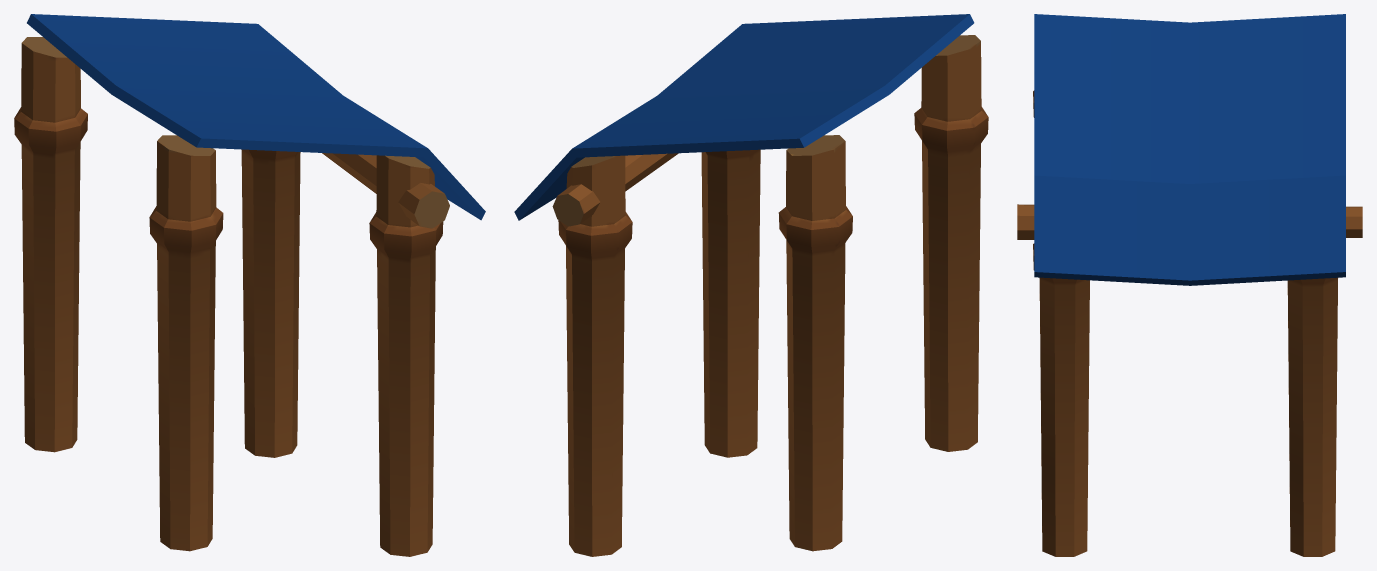
File: Barrack2_decoration.fbx
The picture shows the model from 3 angles, left to right: view 1: azimuth 30°, elevation 25°; view 2: azimuth 150°, elevation 25°; view 3: azimuth 270°, elevation 25°; orthographic projection. The views are drawn at different scales.
Visible parts, largest first — view 1: Barrack2_decoration; view 2: Barrack2_decoration; view 3: Barrack2_decoration.
Part boxes in pixels (box(x1,y1,x2,y2)): Barrack2_decoration: box(14, 14, 485, 556); Barrack2_decoration: box(514, 14, 988, 556); Barrack2_decoration: box(1017, 14, 1362, 556).
Bounding box in the file's own units: 419 × 606 × 437.
